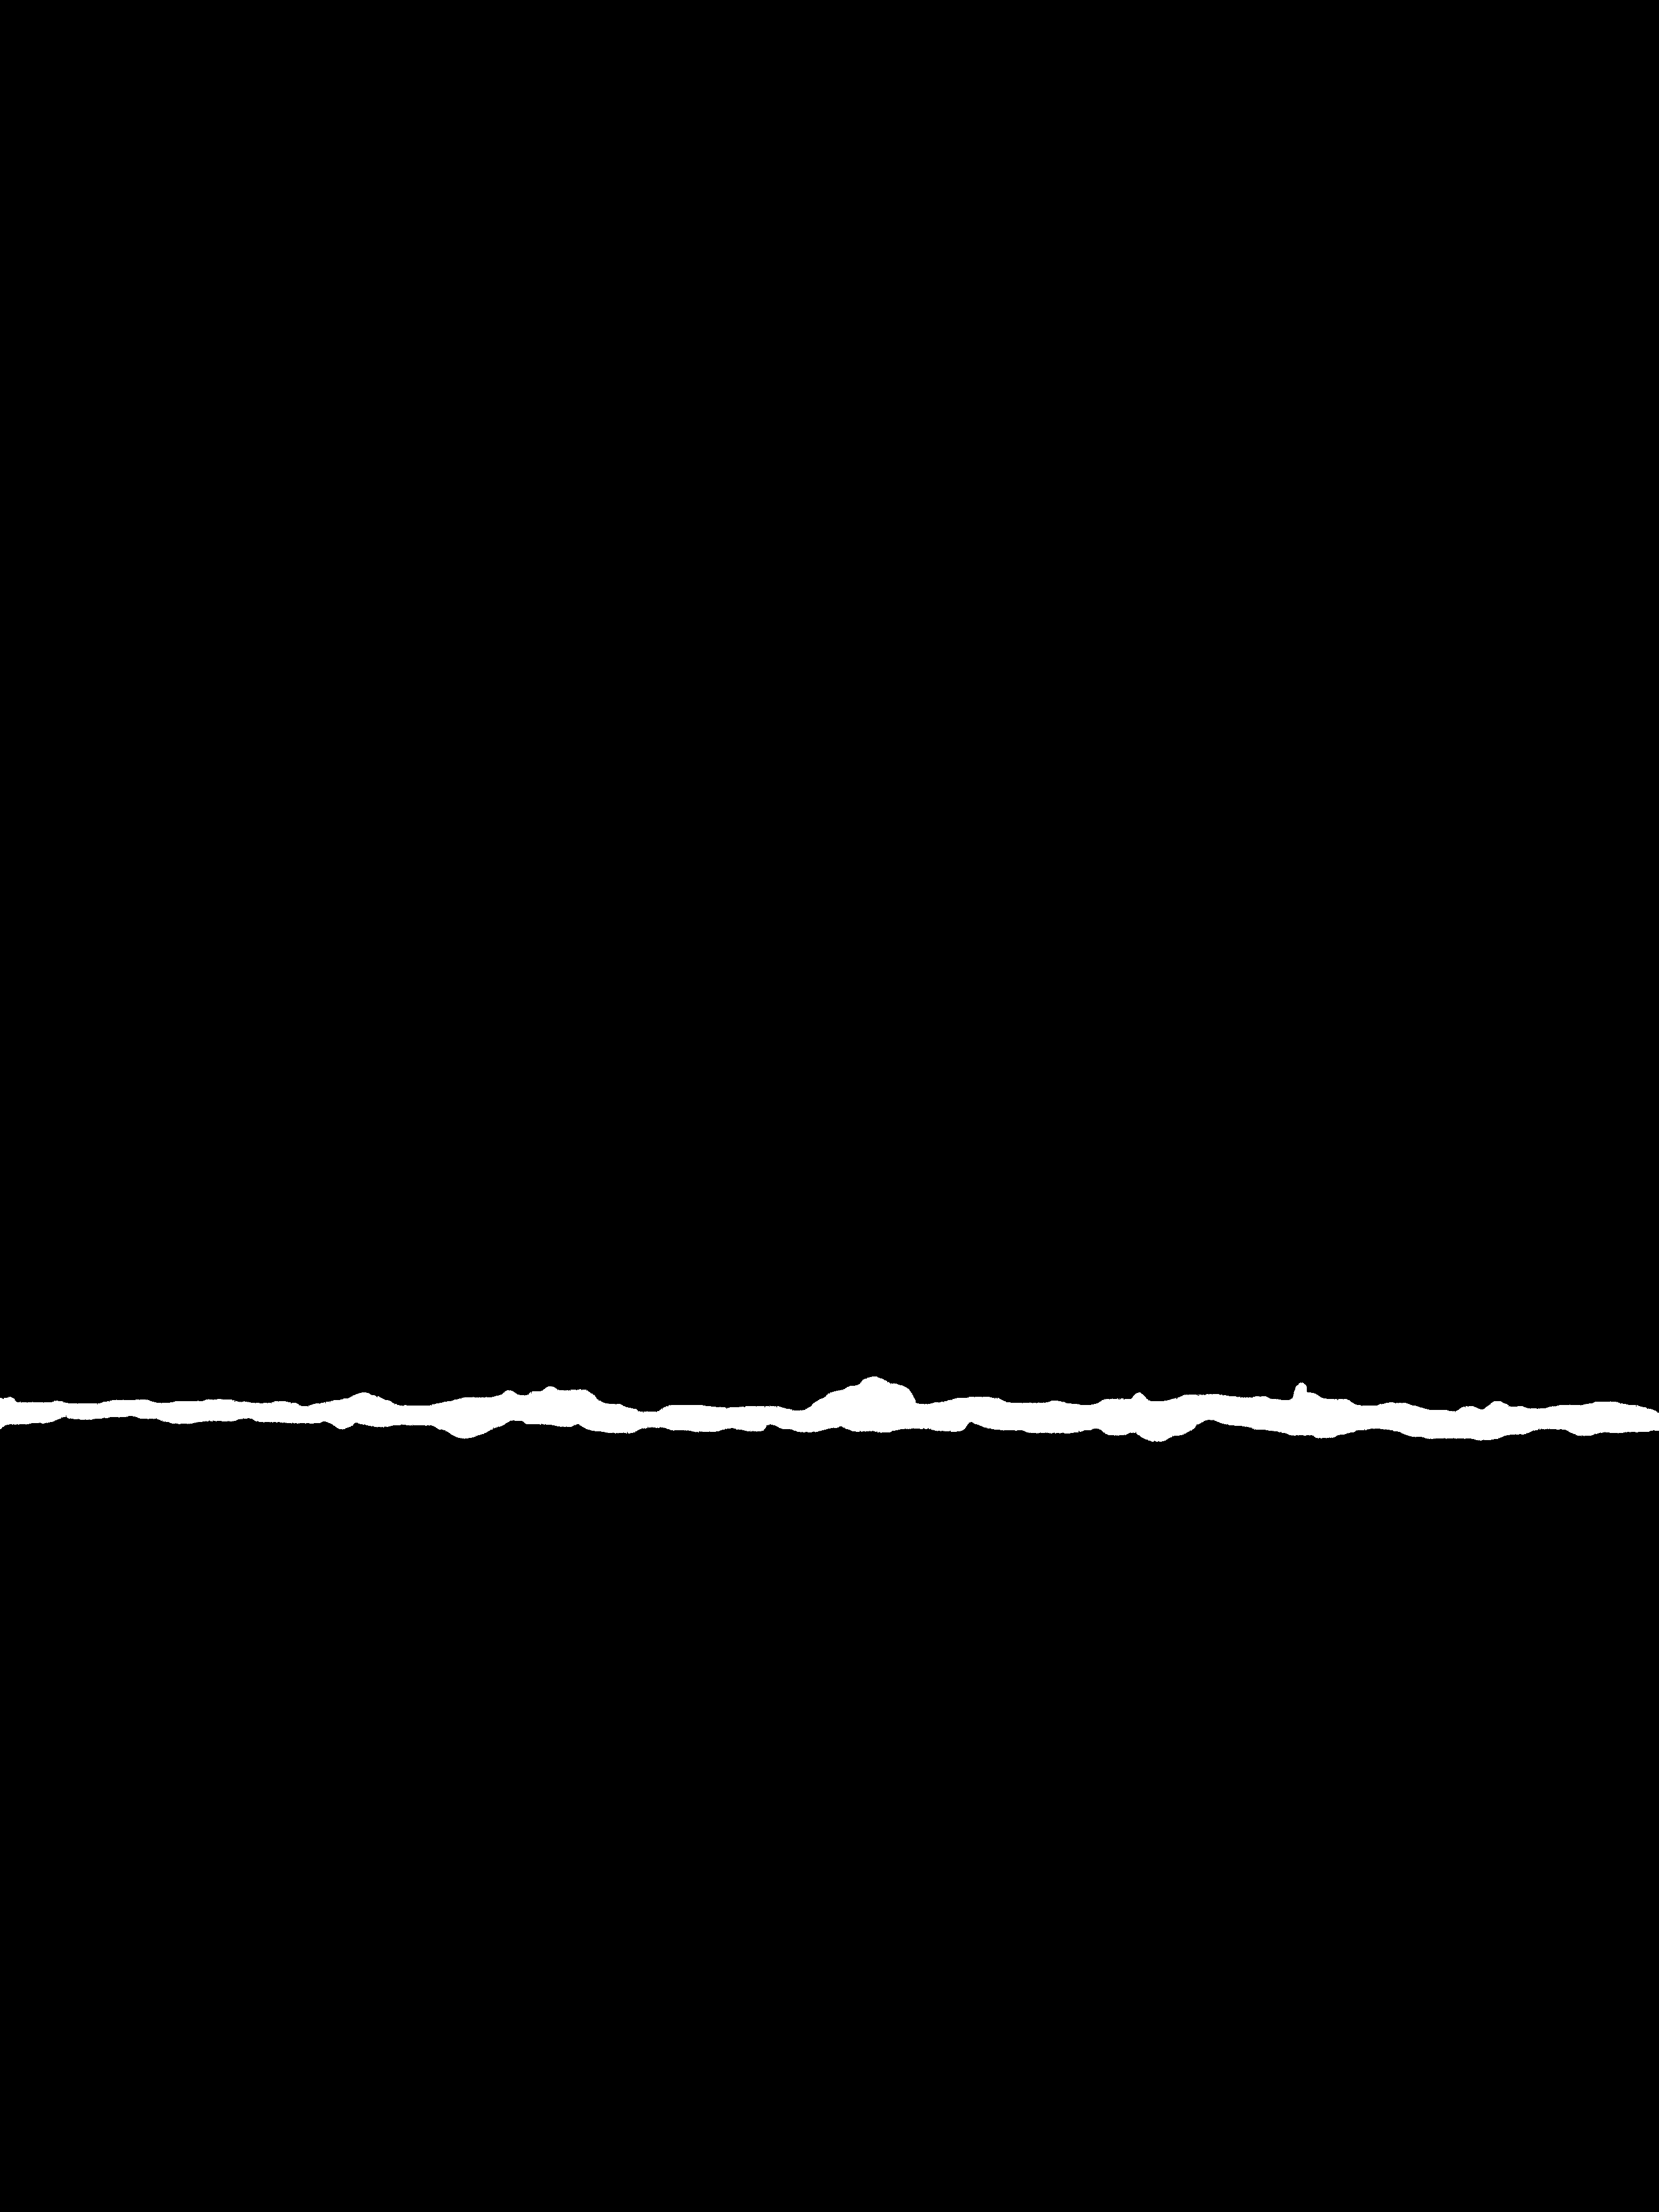Crack: (0, 1353, 1659, 1465)
